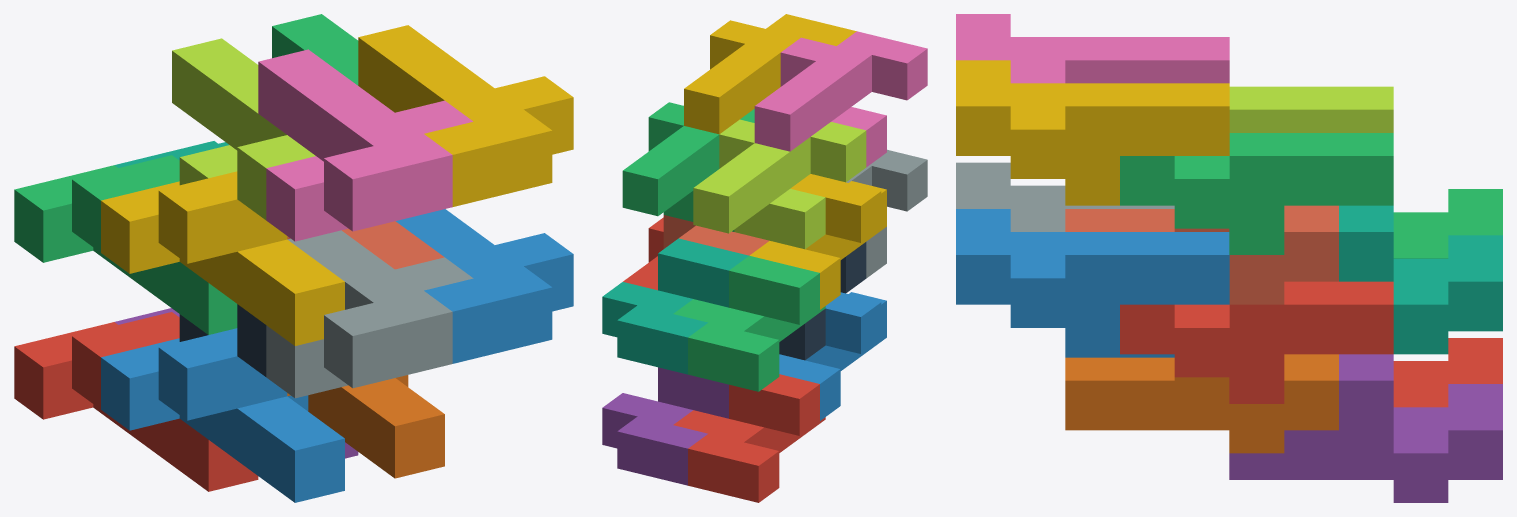
The model's file is tiling.obj.
The picture shows the model from 3 angles, left to right: view 1: azimuth 30°, elevation 25°; view 2: azimuth 150°, elevation 25°; view 3: azimuth 270°, elevation 25°; orthographic projection. The views are drawn at different scales.
Parts seen in each view (by area): view 1: copy_2_domain_4, copy_1_domain_2, copy_1_domain_4, copy_2_domain_8, copy_2_domain_2, copy_2_domain_6, copy_1_domain_1, copy_1_domain_3, copy_2_domain_3, copy_1_domain_6, copy_2_domain_7, copy_1_domain_8 (+2 smaller); view 2: copy_2_domain_3, copy_2_domain_4, copy_1_domain_3, copy_1_domain_1, copy_1_domain_7, copy_2_domain_8, copy_1_domain_5, copy_2_domain_7, copy_1_domain_4, copy_1_domain_2, copy_2_domain_2, copy_2_domain_1 (+2 smaller); view 3: copy_2_domain_6, copy_2_domain_8, copy_1_domain_5, copy_2_domain_7, copy_2_domain_5, copy_1_domain_6, copy_1_domain_7, copy_2_domain_4, copy_1_domain_8, copy_2_domain_3, copy_2_domain_2, copy_1_domain_3 (+1 smaller).
Boxes of the visible parts, x1,y1,x2,y2 form: copy_2_domain_4: (258, 49, 472, 241); copy_1_domain_2: (101, 328, 344, 502); copy_1_domain_4: (101, 171, 344, 345); copy_2_domain_8: (358, 25, 573, 206); copy_2_domain_2: (266, 230, 473, 398); copy_2_domain_6: (395, 209, 573, 363); copy_1_domain_1: (14, 312, 258, 491); copy_1_domain_3: (14, 155, 237, 334); copy_2_domain_3: (172, 38, 315, 220); copy_1_domain_6: (287, 375, 444, 478); copy_2_domain_7: (272, 14, 358, 85); copy_1_domain_8: (287, 221, 444, 269); copy_2_domain_3: (693, 119, 866, 249); copy_2_domain_4: (754, 31, 927, 167); copy_1_domain_3: (673, 255, 825, 391); copy_1_domain_1: (673, 374, 825, 502); copy_1_domain_7: (602, 238, 748, 374); copy_2_domain_8: (684, 14, 856, 134); copy_1_domain_5: (602, 367, 728, 485); copy_2_domain_7: (622, 102, 754, 231); copy_1_domain_4: (750, 174, 886, 309); copy_1_domain_2: (779, 292, 886, 420); copy_2_domain_2: (846, 149, 927, 278); copy_2_domain_1: (779, 242, 866, 360); copy_2_domain_6: (956, 209, 1229, 354); copy_2_domain_8: (956, 60, 1229, 205); copy_1_domain_5: (1229, 354, 1502, 502); copy_2_domain_7: (1120, 133, 1393, 254); copy_2_domain_5: (1120, 281, 1393, 403); copy_1_domain_6: (1065, 354, 1338, 453); copy_1_domain_7: (1339, 205, 1502, 354); copy_2_domain_4: (956, 14, 1229, 83); copy_1_domain_8: (1065, 205, 1338, 304); copy_2_domain_3: (1229, 86, 1393, 132); copy_2_domain_2: (956, 162, 1174, 231); copy_1_domain_3: (1393, 189, 1502, 258).
Size of the model in its own units: 6 by 8 by 10.
